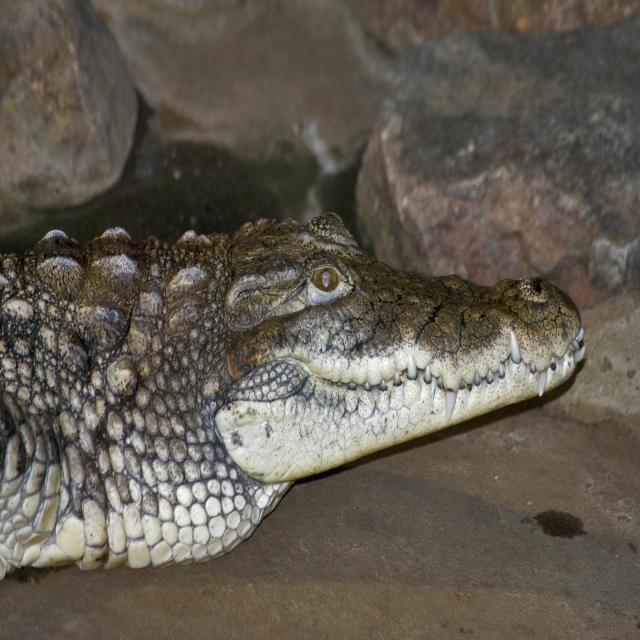crocodile: (0, 199, 588, 578)
